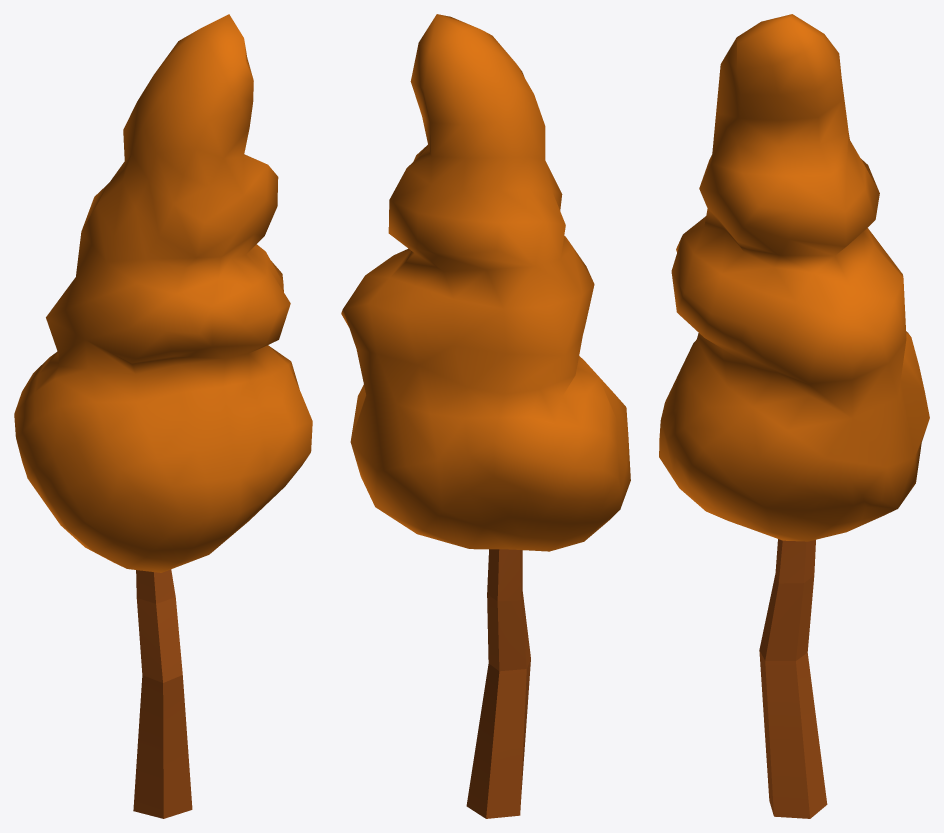
File: Tree_21_Fall.fbx
3 renders of one model, left to right at view 1: azimuth 30°, elevation 25°; view 2: azimuth 150°, elevation 25°; view 3: azimuth 270°, elevation 25°, orthographic. The views are drawn at different scales.
Visible parts, largest first — view 1: Tree_21_p2_Fall, Tree_21_p1_Fall; view 2: Tree_21_p2_Fall, Tree_21_p1_Fall; view 3: Tree_21_p2_Fall, Tree_21_p1_Fall.
Part boxes in pixels (x1,y1,x2,y2): Tree_21_p2_Fall: [14, 14, 312, 572]; Tree_21_p1_Fall: [133, 569, 192, 818]; Tree_21_p2_Fall: [341, 14, 630, 551]; Tree_21_p1_Fall: [466, 549, 530, 818]; Tree_21_p2_Fall: [659, 14, 929, 541]; Tree_21_p1_Fall: [759, 539, 827, 818].
Bounding box in the file's own units: 207 × 603 × 180.
